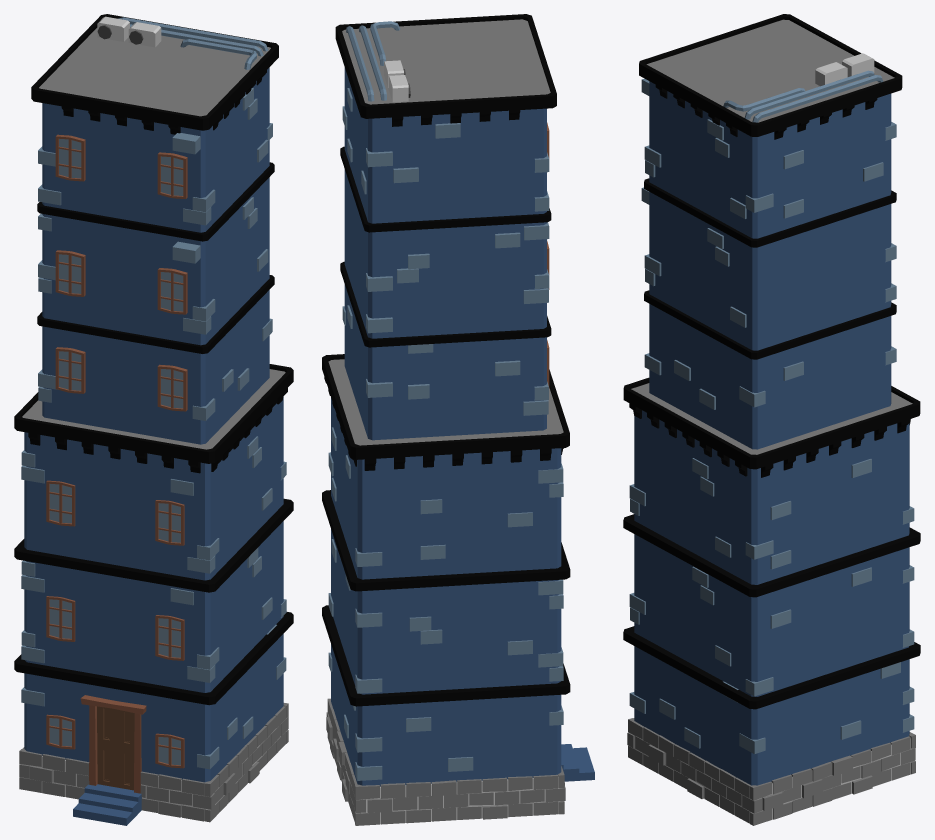
Rendered from Building3_Env.fbx.
The picture shows the model from 3 angles, left to right: view 1: azimuth 30°, elevation 25°; view 2: azimuth 150°, elevation 25°; view 3: azimuth 270°, elevation 25°; orthographic projection. The views are drawn at different scales.
Parts seen in each view (by area): view 1: 6Story_Stack_Mat.001; view 2: 6Story_Stack_Mat.001; view 3: 6Story_Stack_Mat.001.
Boxes of the visible parts, bbox=[...] form: 6Story_Stack_Mat.001: bbox=[14, 14, 293, 825]; 6Story_Stack_Mat.001: bbox=[322, 14, 594, 825]; 6Story_Stack_Mat.001: bbox=[623, 14, 920, 825].
Size of the model in its own units: 297 by 780 by 297.
